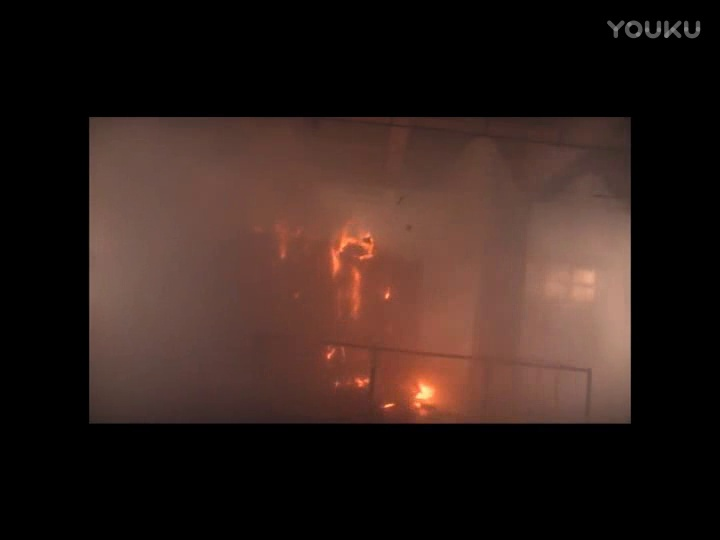fire: (415, 384, 438, 409)
